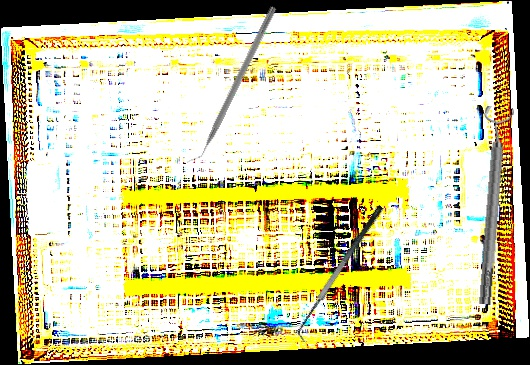Chopper: (184, 1, 278, 169)
Fixation Ring: (466, 105, 518, 306)
Spatula Surgical: (288, 203, 395, 344)
